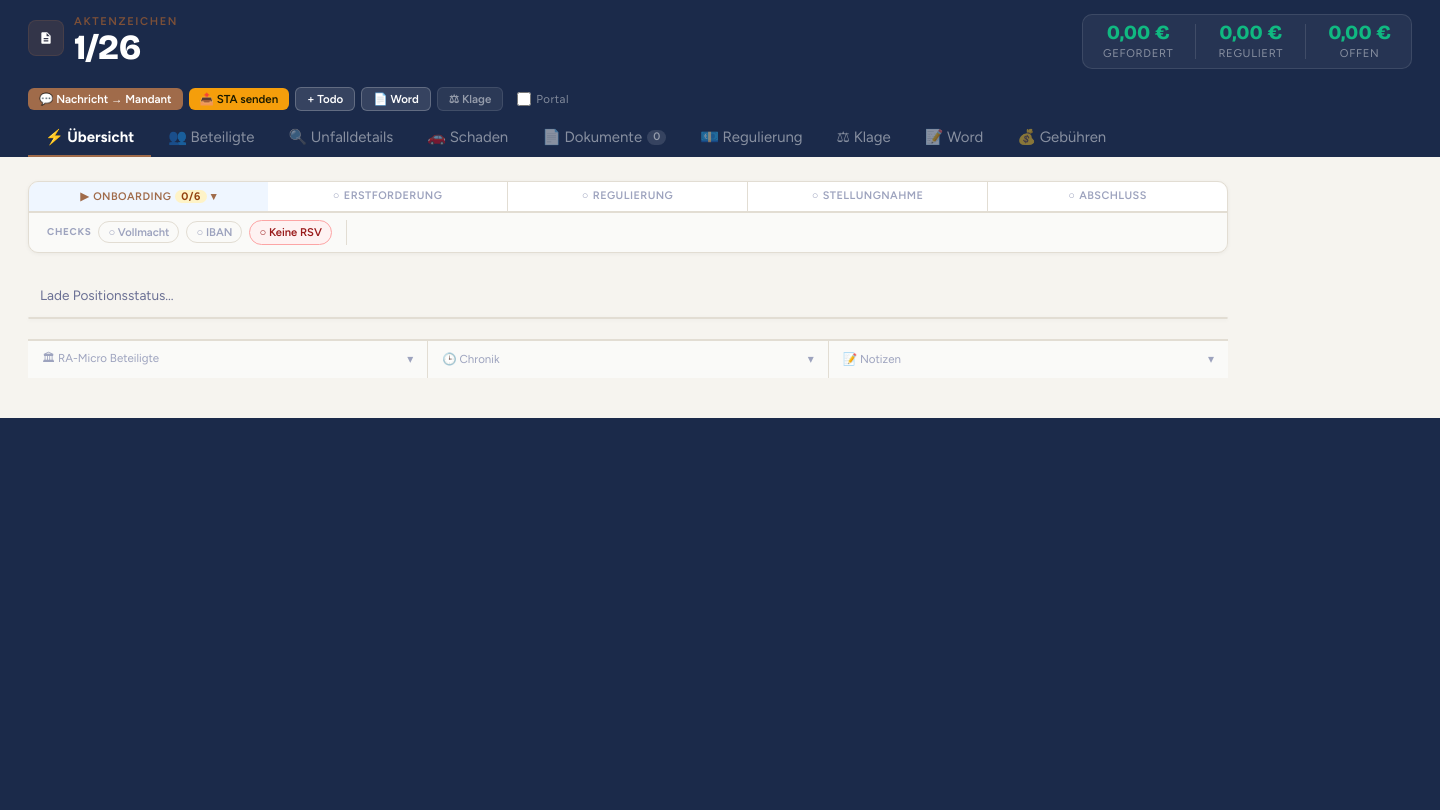
Test: B4 – '+ Todo' im Akten-Header › öffnet beim Klick ein To-Do-Eingabeformular
The image size is (1440, 810).
Step 1. Click the button "+ Todo" → (325, 99), box [295,87,355,111]
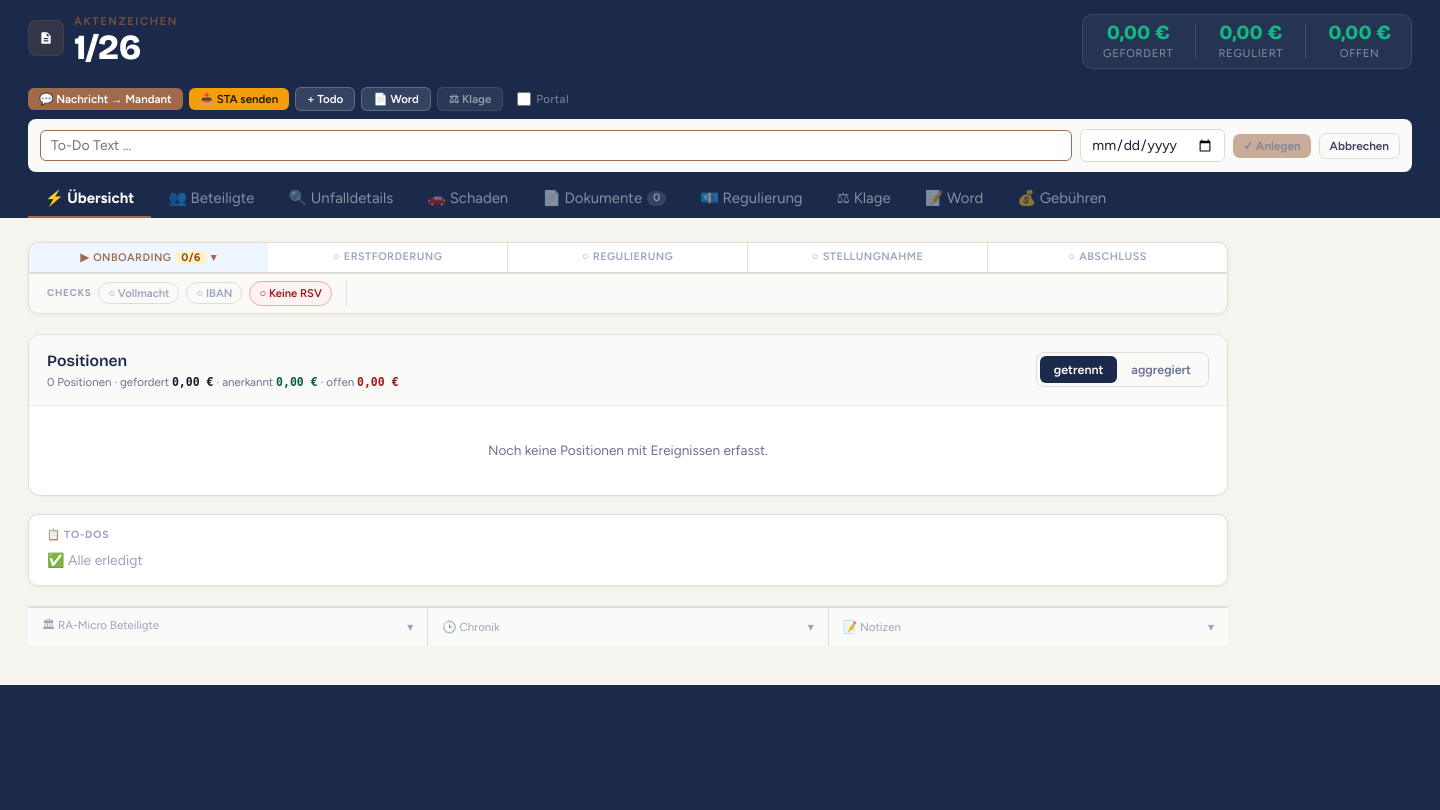
Now the field with placeholder "To-Do Text …" is shown, box [40,130,1072,161]
